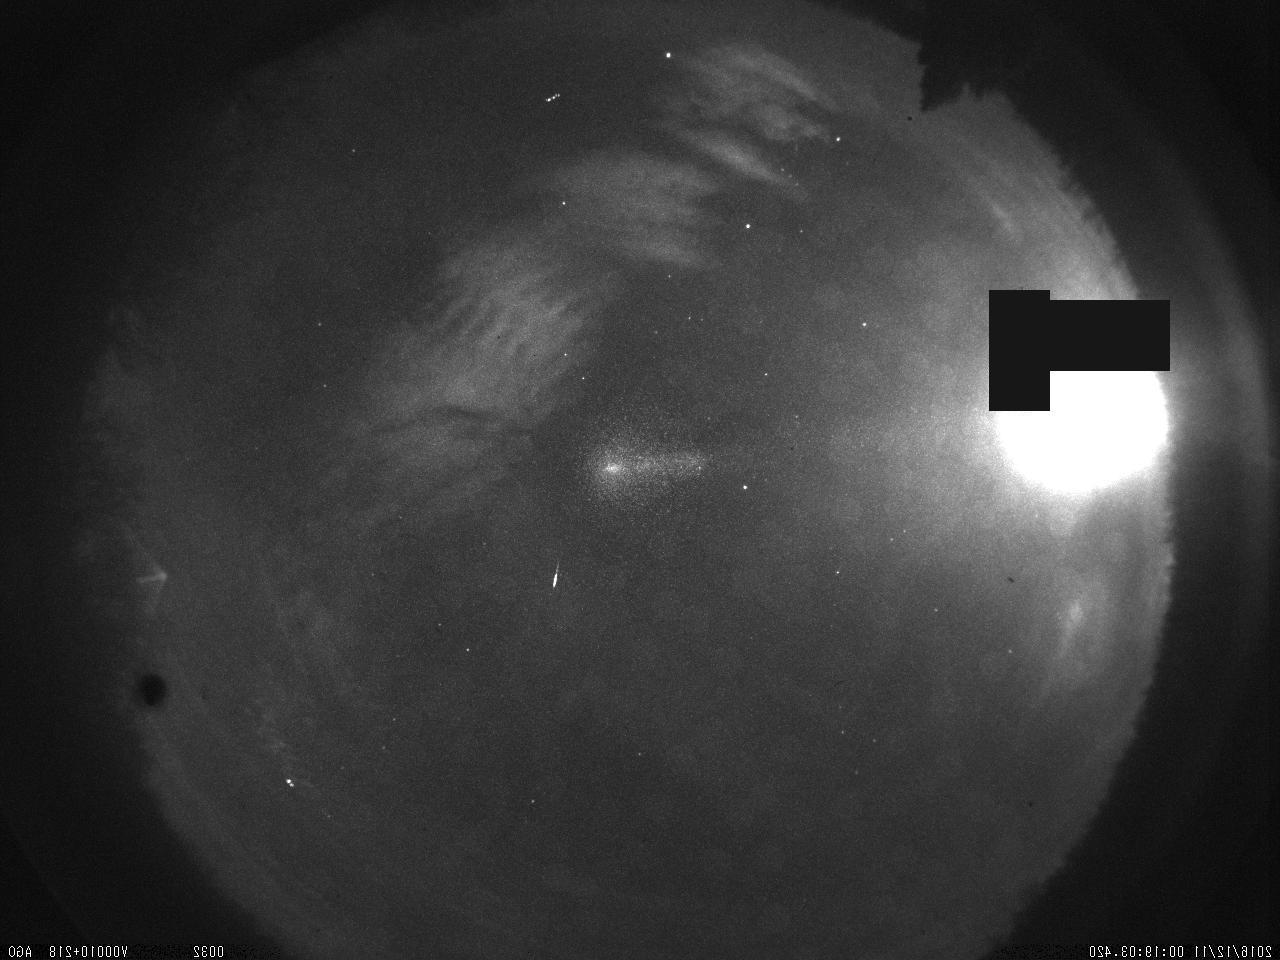meteor: (541, 559, 569, 599)
